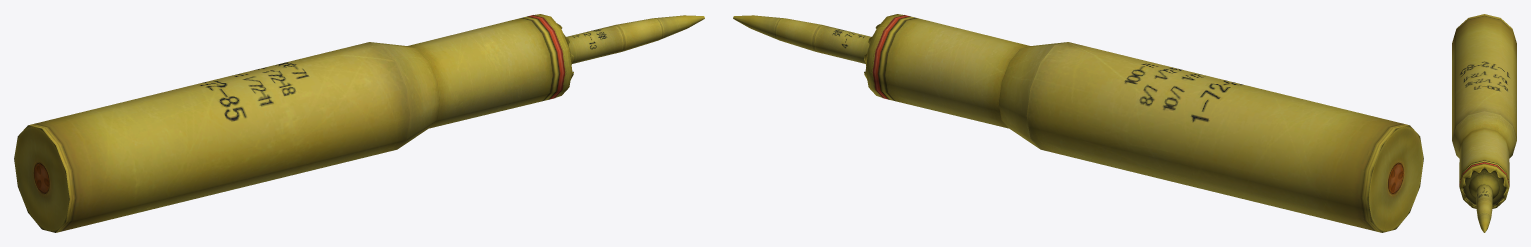
3 views of the same model, side by side, from view 1: azimuth 30°, elevation 25°; view 2: azimuth 150°, elevation 25°; view 3: azimuth 270°, elevation 25° (orthographic). The views are drawn at different scales.
Visible parts, largest first — view 1: AT_04_LOD0; view 2: AT_04_LOD0; view 3: AT_04_LOD0.
Boxes of the visible parts, x1=… form: AT_04_LOD0: x1=14, y1=14, x2=704, y2=232; AT_04_LOD0: x1=733, y1=14, x2=1423, y2=232; AT_04_LOD0: x1=1452, y1=14, x2=1516, y2=232.
Size of the model in its own units: 11.36 by 1.65 by 1.65.
